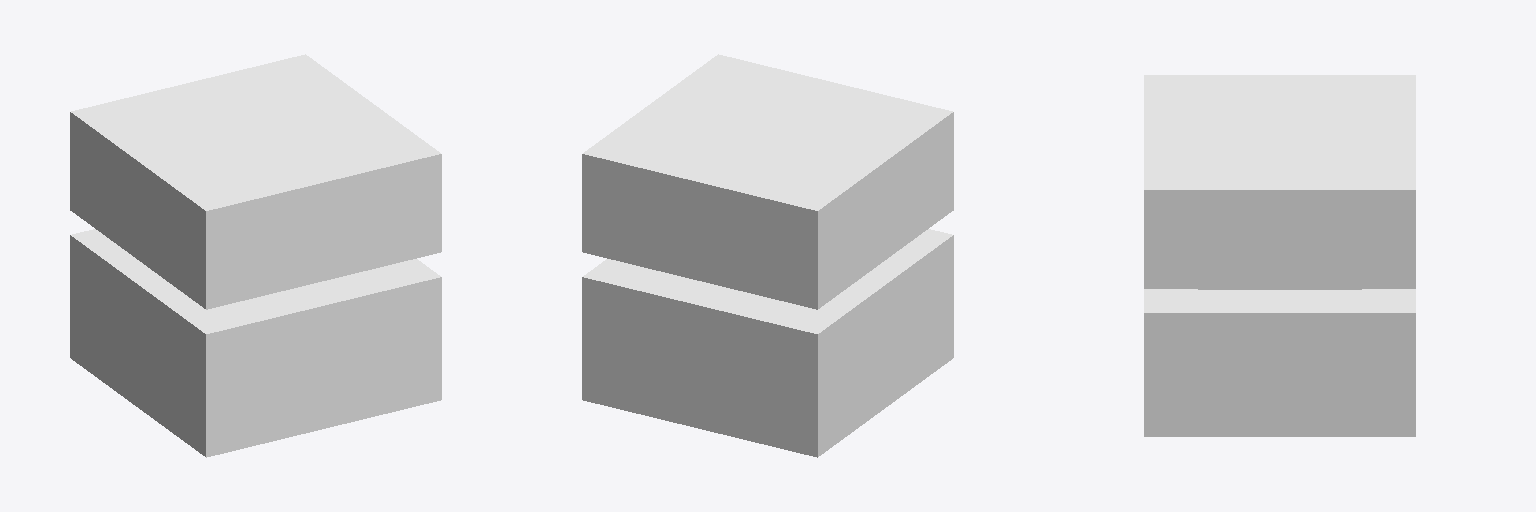
The model's file is rotating-blase-trap-1.obj.
3 renders of one model, left to right at view 1: azimuth 30°, elevation 25°; view 2: azimuth 150°, elevation 25°; view 3: azimuth 270°, elevation 25°, orthographic.
Parts seen in each view (by area): view 1: object 1; view 2: object 1; view 3: object 1.
Boxes of the visible parts, box(x1,y1,x2,y2) form: object 1: box(70, 54, 441, 457); object 1: box(582, 54, 953, 457); object 1: box(1144, 75, 1415, 436).
Bounding box in the file's own units: 1 × 1 × 1.